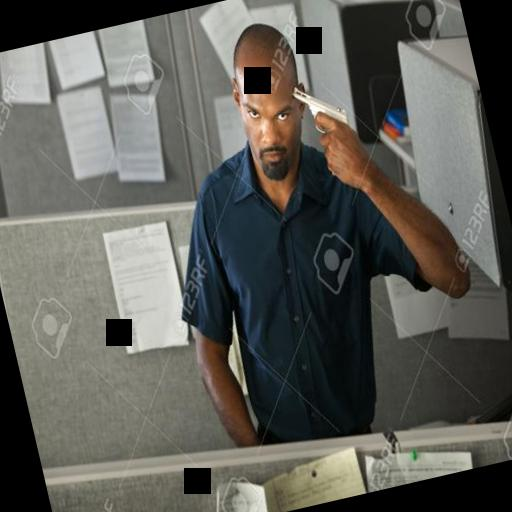Handgun: (283, 66, 364, 192)
